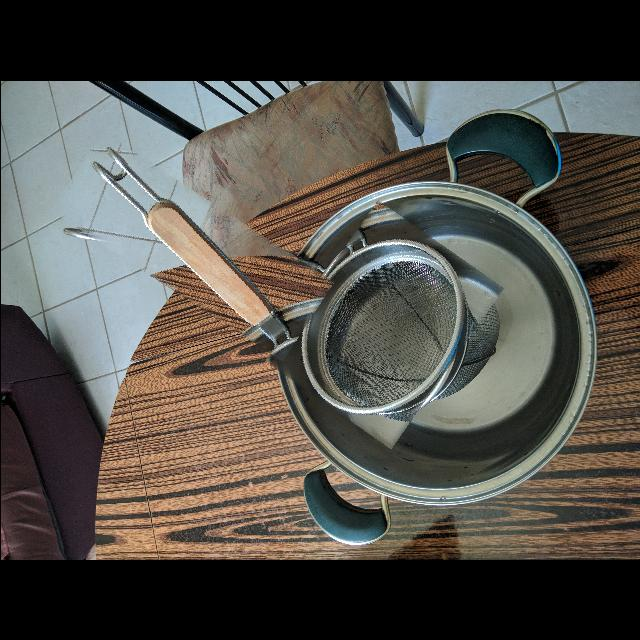Handle: (76, 141, 301, 361)
Strainer: (291, 229, 474, 431)
